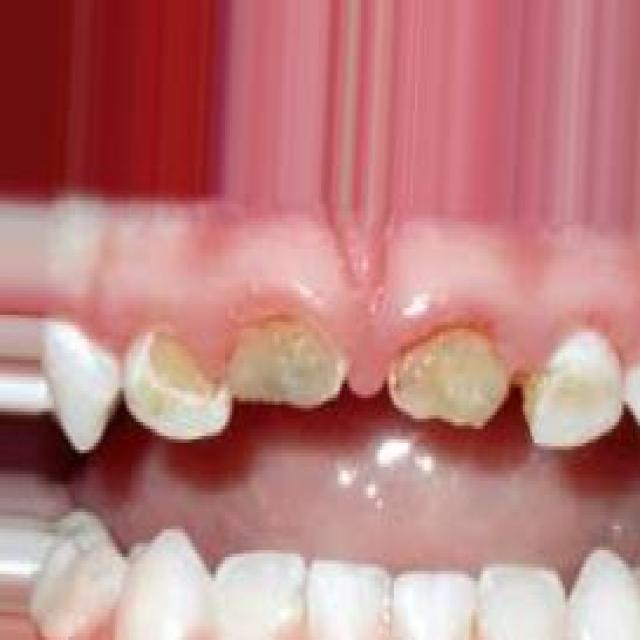caries: (383, 317, 510, 436), (222, 304, 352, 418), (126, 318, 242, 444)
